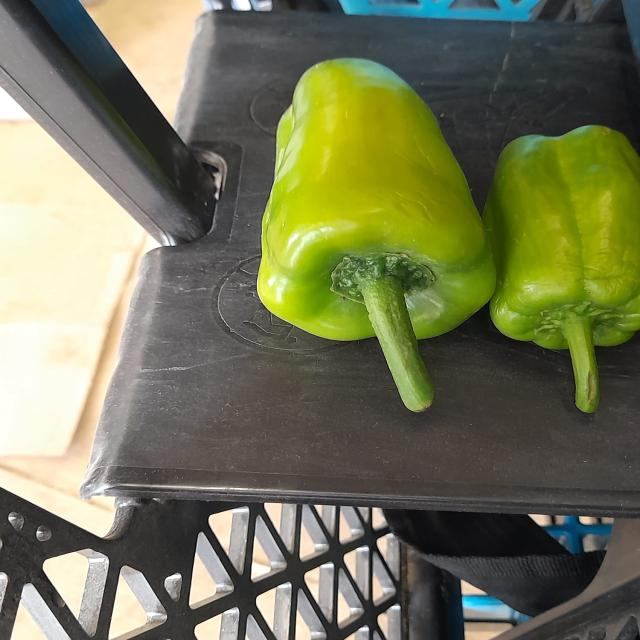bell pepper: (244, 47, 493, 412), (472, 111, 640, 421)
